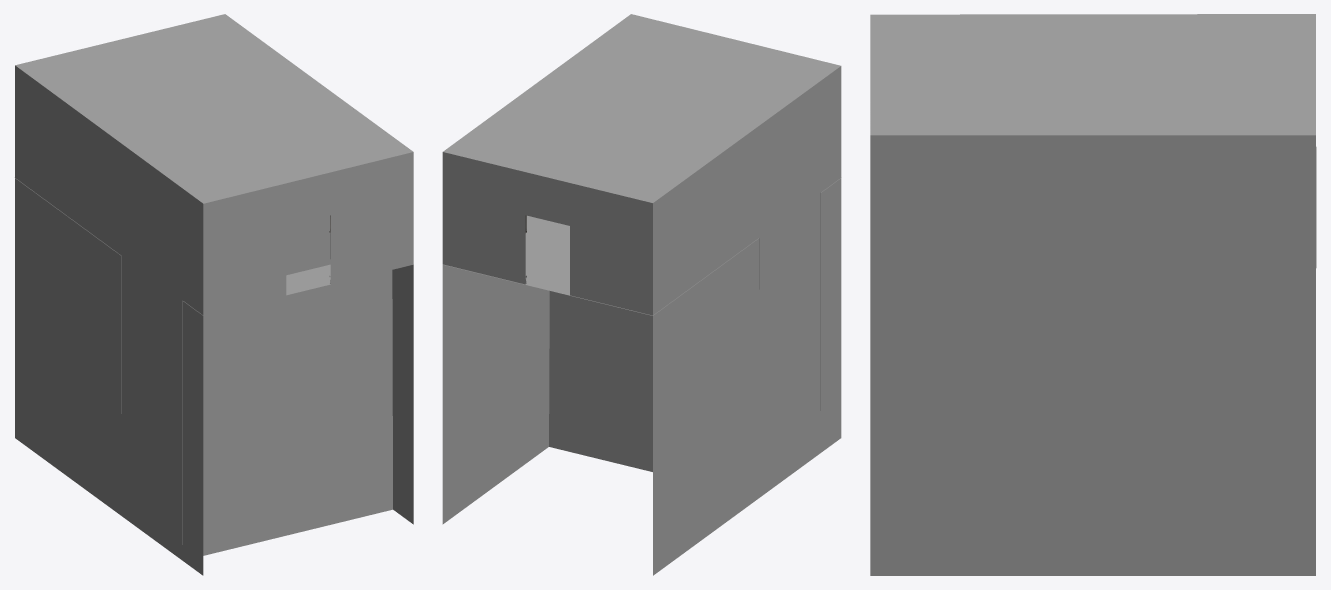
File: SM_TutorialRoom_Main_01.fbx
The picture shows the model from 3 angles, left to right: view 1: azimuth 30°, elevation 25°; view 2: azimuth 150°, elevation 25°; view 3: azimuth 270°, elevation 25°; orthographic projection. The views are drawn at different scales.
Parts seen in each view (by area): view 1: SM_TutorialRoom_Main_Wall_01, SM_TutorialRoom_Main_Floor_01, SM_TutorialRoom_Main_Roof_01, SM_TutorialRoom_Main_Trim_01; view 2: SM_TutorialRoom_Main_Wall_01, SM_TutorialRoom_Main_Roof_01, SM_TutorialRoom_Main_Floor_01, SM_TutorialRoom_Main_Trim_01; view 3: SM_TutorialRoom_Main_Wall_01, SM_TutorialRoom_Main_Roof_01, SM_TutorialRoom_Main_Trim_01.
Boxes of the visible parts, x1,y1,x2,y2 form: SM_TutorialRoom_Main_Wall_01: [15, 65, 413, 575]; SM_TutorialRoom_Main_Floor_01: [14, 177, 392, 555]; SM_TutorialRoom_Main_Roof_01: [16, 15, 411, 203]; SM_TutorialRoom_Main_Trim_01: [15, 14, 413, 203]; SM_TutorialRoom_Main_Wall_01: [442, 66, 841, 575]; SM_TutorialRoom_Main_Roof_01: [445, 14, 838, 201]; SM_TutorialRoom_Main_Floor_01: [443, 178, 840, 471]; SM_TutorialRoom_Main_Trim_01: [443, 14, 840, 202]; SM_TutorialRoom_Main_Wall_01: [870, 135, 1315, 575]; SM_TutorialRoom_Main_Roof_01: [870, 14, 1313, 134]; SM_TutorialRoom_Main_Trim_01: [870, 14, 1315, 135].
Bounding box in the file's own units: 1185 × 2005 × 1840.
